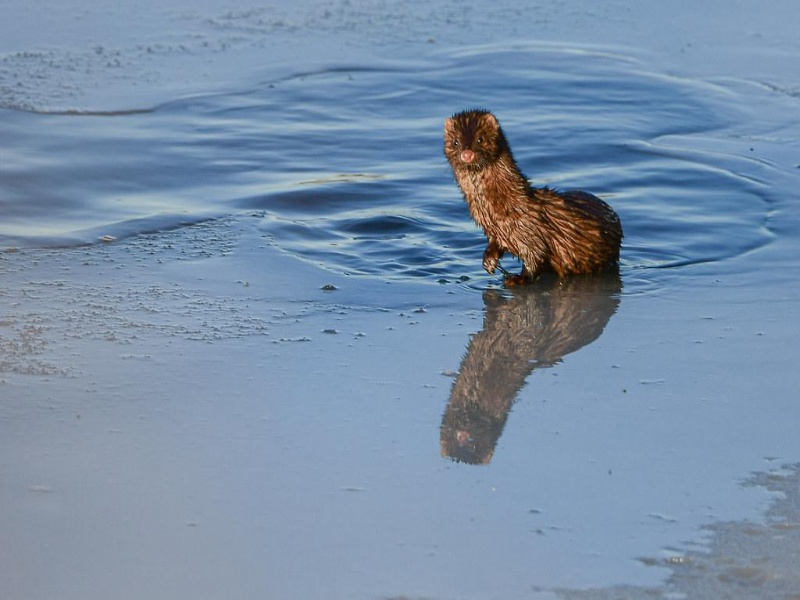minkish: (443, 108, 625, 280)
